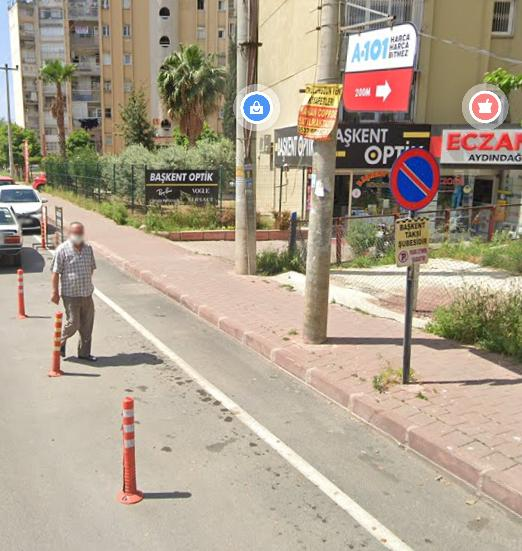nopark: (393, 150, 438, 209)
